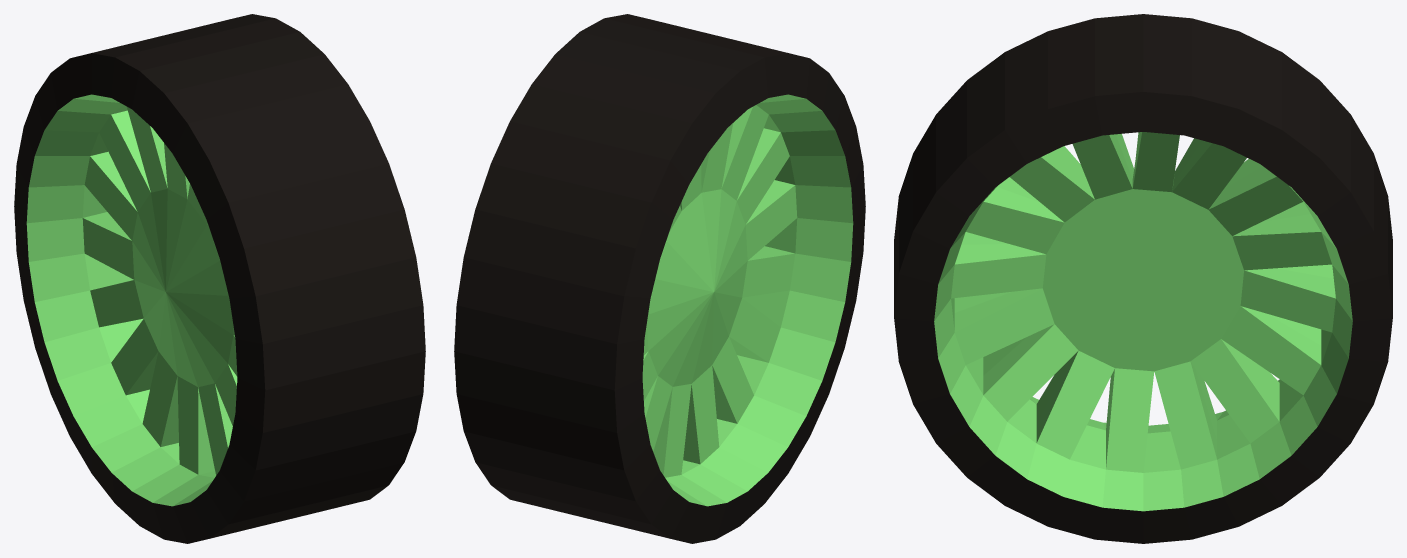
File: wheel_1.fbx
The picture shows the model from 3 angles, left to right: view 1: azimuth 30°, elevation 25°; view 2: azimuth 150°, elevation 25°; view 3: azimuth 270°, elevation 25°; orthographic projection.
Parts seen in each view (by area): view 1: Cylinder; view 2: Cylinder; view 3: Cylinder.
Boxes of the visible parts, left/top/right/bottom form: Cylinder: left=14, top=14, right=425, bottom=543; Cylinder: left=454, top=14, right=865, bottom=543; Cylinder: left=894, top=14, right=1392, bottom=543.
Bounding box in the file's own units: 80.85 × 200 × 200.
